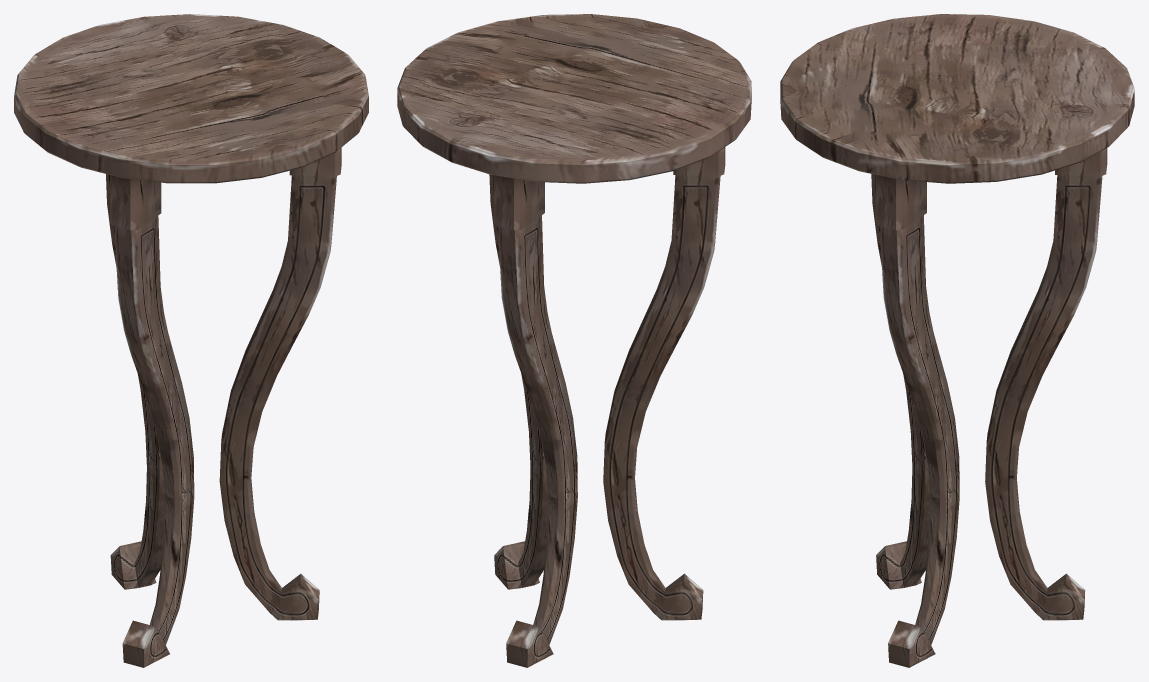
File: tablette.fbx
3 views of the same model, side by side, from view 1: azimuth 30°, elevation 25°; view 2: azimuth 150°, elevation 25°; view 3: azimuth 270°, elevation 25° (orthographic).
Visible parts, largest first — view 1: polySurface367; view 2: polySurface367; view 3: polySurface367.
Part boxes in pixels (x1,y1,x2,y2): polySurface367: (14, 14, 368, 667); polySurface367: (397, 14, 751, 667); polySurface367: (780, 14, 1134, 667).
Bounding box in the file's own units: 58.85 × 97.54 × 58.81.
